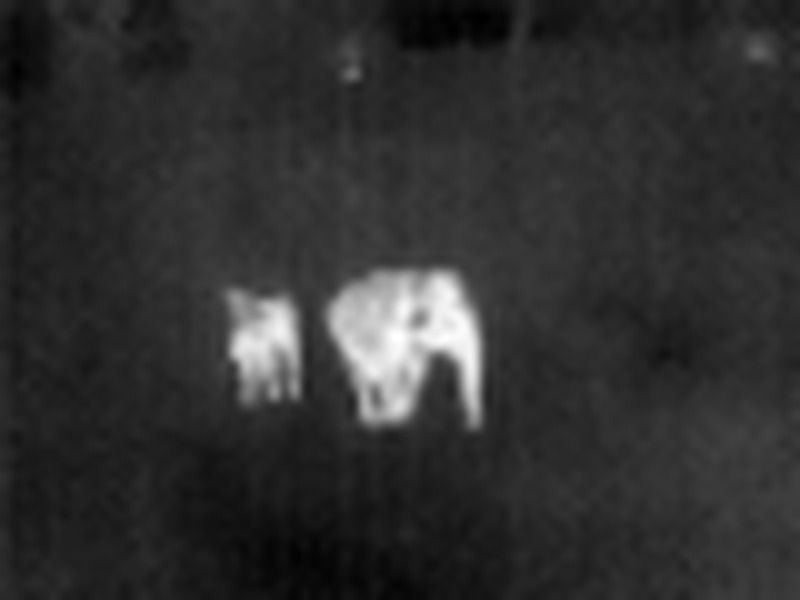elephant: (226, 272, 483, 436)
